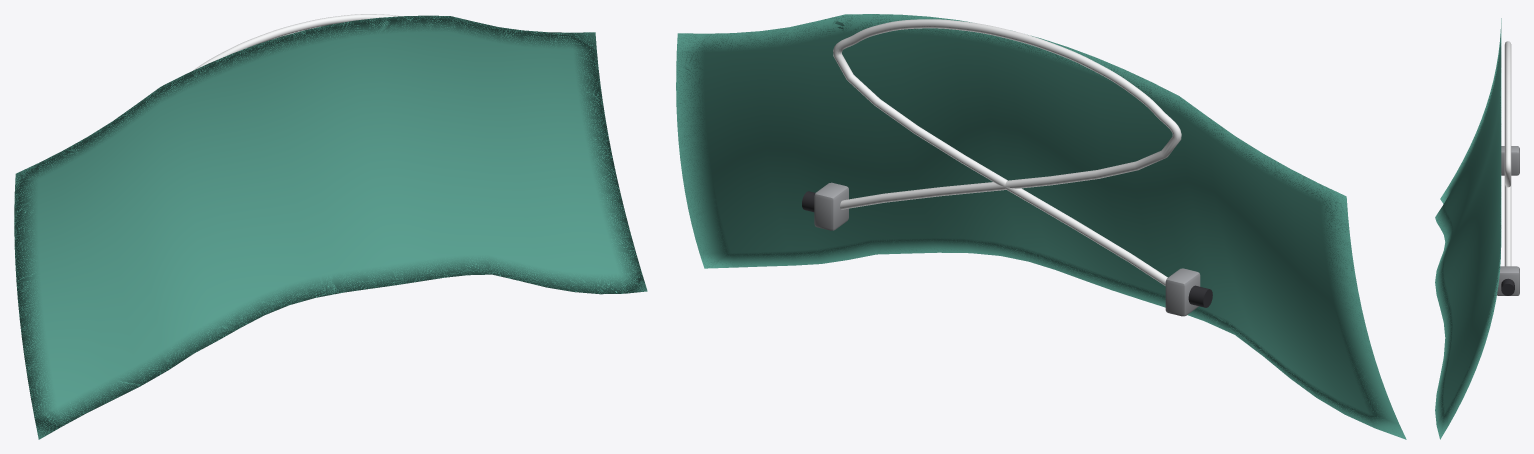
The model's file is AnaestheticScreen.fbx.
The picture shows the model from 3 angles, left to right: view 1: azimuth 30°, elevation 25°; view 2: azimuth 150°, elevation 25°; view 3: azimuth 270°, elevation 25°; orthographic projection. The views are drawn at different scales.
Visible parts, largest first — view 1: AnaestheticScreen_Mesh; view 2: AnaestheticScreen_Mesh; view 3: AnaestheticScreen_Mesh.
Part boxes in pixels (x1,y1,x2,y2): AnaestheticScreen_Mesh: [14, 14, 647, 439]; AnaestheticScreen_Mesh: [676, 14, 1406, 439]; AnaestheticScreen_Mesh: [1435, 18, 1519, 439].
Bounding box in the file's own units: 1.68 × 0.8215 × 0.25.
